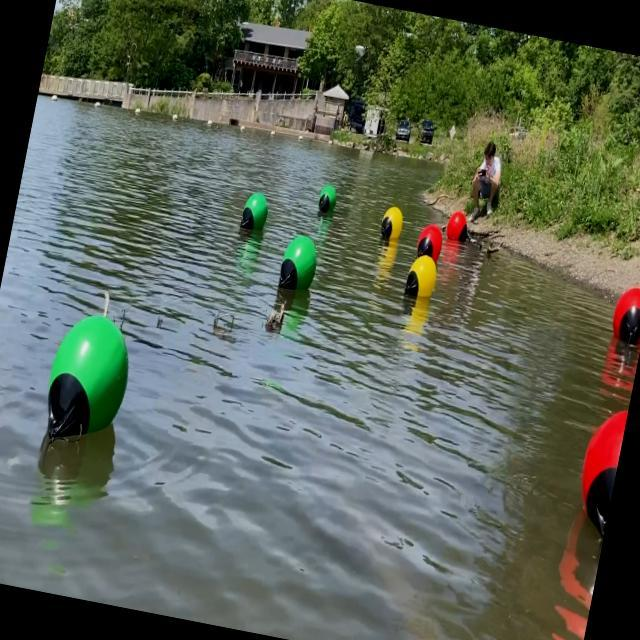buoy: (37, 306, 140, 453), (568, 400, 629, 544), (276, 232, 324, 296), (609, 279, 640, 348), (404, 250, 441, 302), (239, 190, 272, 234), (413, 220, 446, 262), (378, 202, 406, 242), (445, 208, 473, 245), (316, 182, 338, 215)
